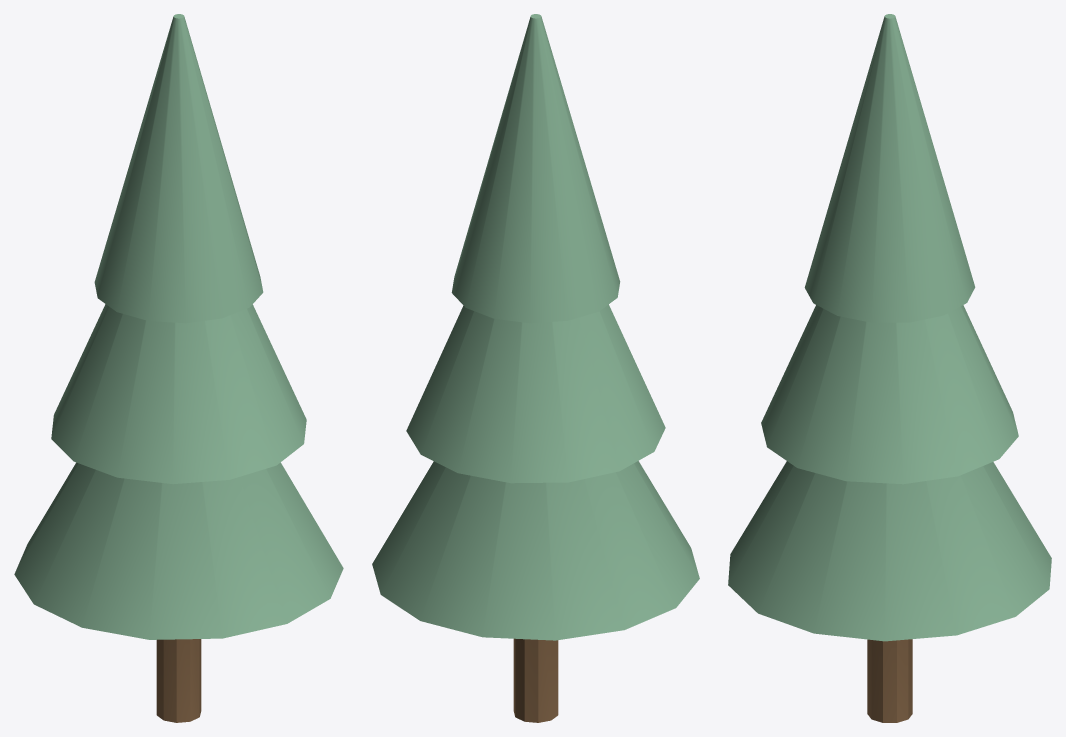
Rendered from pine-03.envelope.glb.
3 views of the same model, side by side, from view 1: azimuth 30°, elevation 25°; view 2: azimuth 150°, elevation 25°; view 3: azimuth 270°, elevation 25° (orthographic).
Visible parts, largest first — view 1: pine-03.foliage, pine-03.warm; view 2: pine-03.foliage, pine-03.warm; view 3: pine-03.foliage, pine-03.warm.
Boxes of the visible parts, x1=… form: pine-03.foliage: x1=14, y1=14, x2=343, y2=639; pine-03.warm: x1=156, y1=639, x2=201, y2=722; pine-03.foliage: x1=372, y1=14, x2=699, y2=640; pine-03.warm: x1=513, y1=638, x2=558, y2=722; pine-03.foliage: x1=728, y1=14, x2=1051, y2=641; pine-03.warm: x1=867, y1=639, x2=912, y2=722.
Bounding box in the file's own units: 0.7248 × 1.69 × 0.7116.
